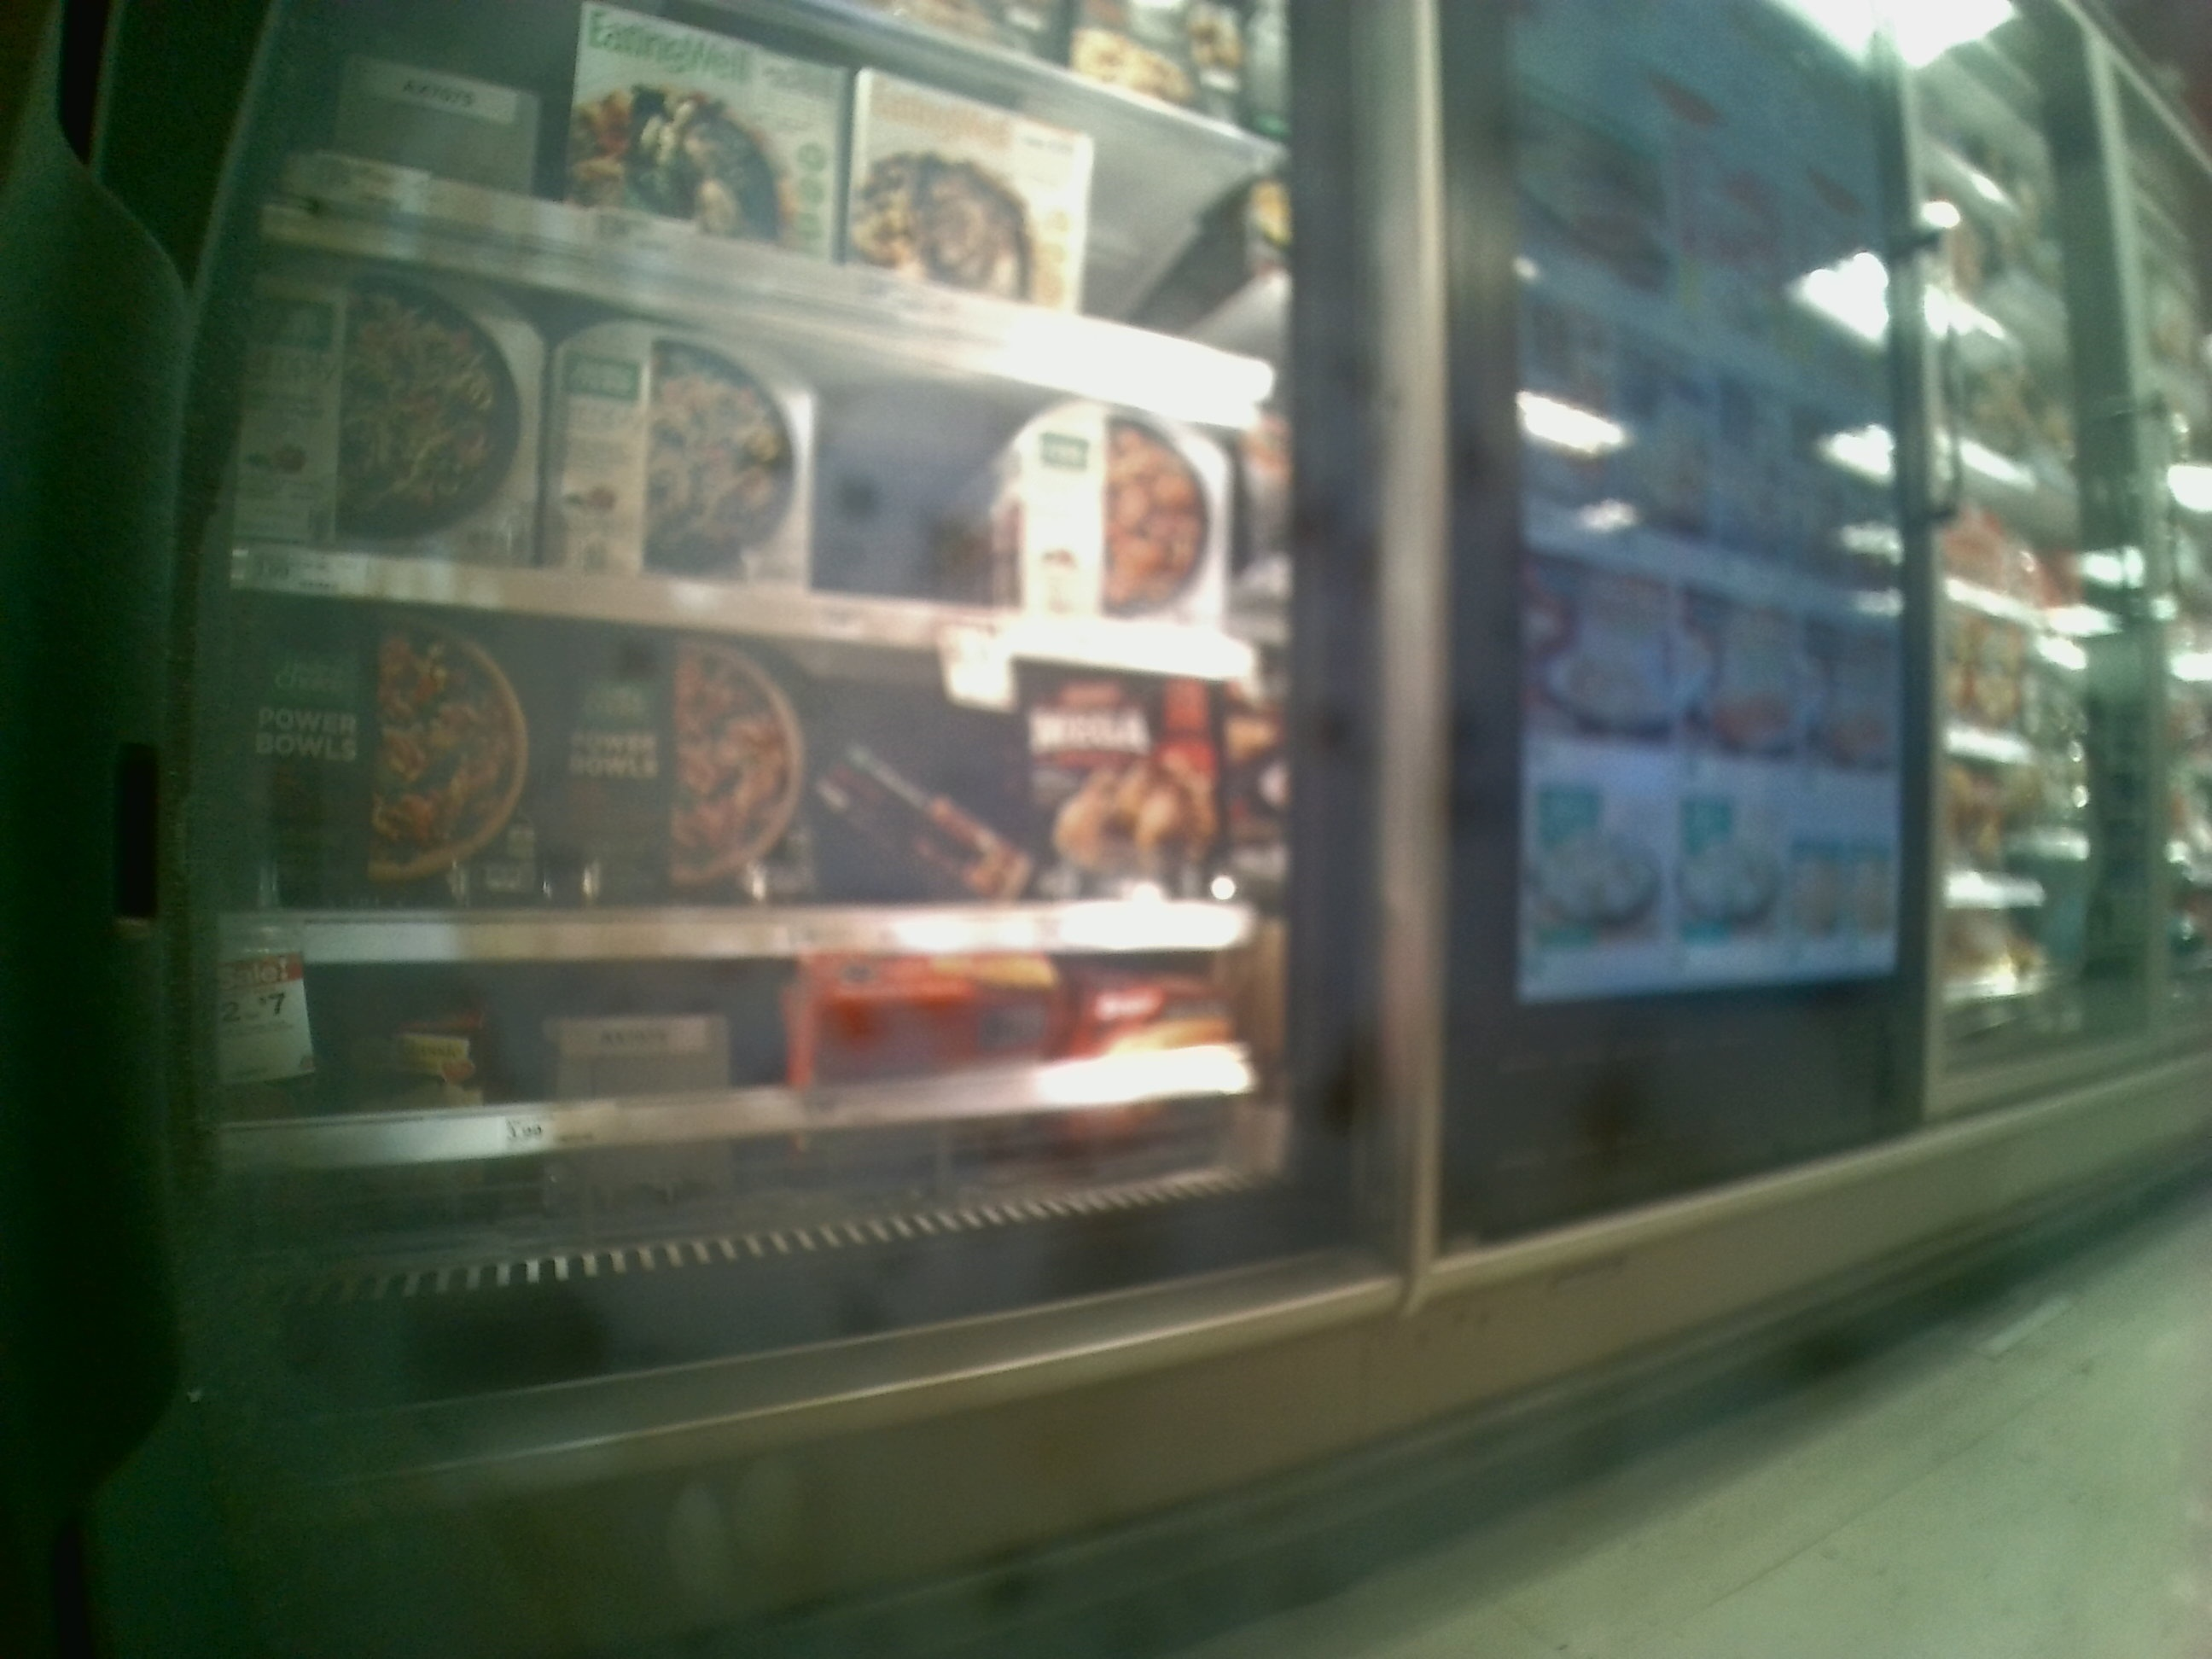shelf: (239, 239, 1287, 674), (233, 594, 1291, 964)
